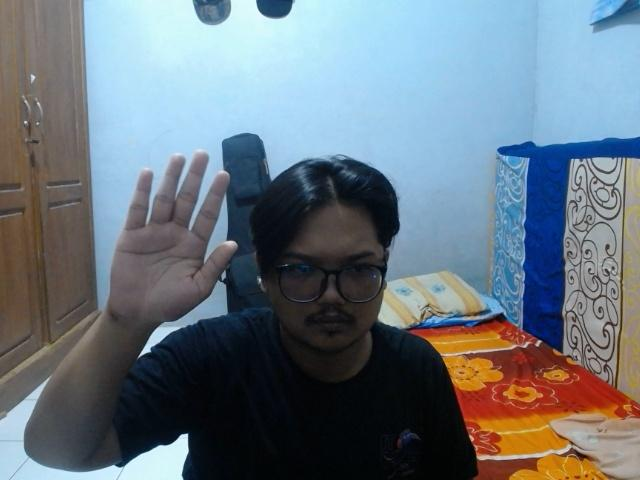Release: (103, 144, 242, 341)
